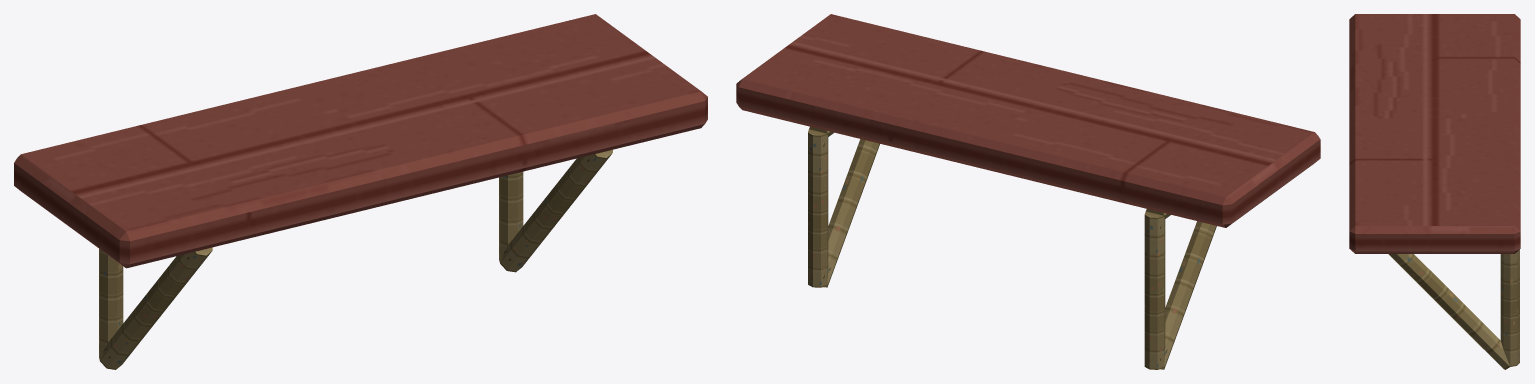
The model's file is MD_83_WallShelf.fbx.
The picture shows the model from 3 angles, left to right: view 1: azimuth 30°, elevation 25°; view 2: azimuth 150°, elevation 25°; view 3: azimuth 270°, elevation 25°; orthographic projection. The views are drawn at different scales.
Parts seen in each view (by area): view 1: MD_83_WallShelf_wooden_shelf, MD_83_WallShelf_shelf_bracket_2, MD_83_WallShelf_shelf_bracket_2.001, MD_83_WallShelf_shelf_bracket_0, MD_83_WallShelf_shelf_bracket_0.001; view 2: MD_83_WallShelf_wooden_shelf, MD_83_WallShelf_shelf_bracket_0, MD_83_WallShelf_shelf_bracket_0.001, MD_83_WallShelf_shelf_bracket_2.001, MD_83_WallShelf_shelf_bracket_2; view 3: MD_83_WallShelf_wooden_shelf, MD_83_WallShelf_shelf_bracket_2.001, MD_83_WallShelf_shelf_bracket_0.001.
Boxes of the visible parts, left/top/right/bottom form: MD_83_WallShelf_wooden_shelf: left=14, top=14, right=707, bottom=268; MD_83_WallShelf_shelf_bracket_2: left=100, top=247, right=212, bottom=369; MD_83_WallShelf_shelf_bracket_2.001: left=500, top=149, right=612, bottom=272; MD_83_WallShelf_shelf_bracket_0: left=99, top=249, right=123, bottom=360; MD_83_WallShelf_shelf_bracket_0.001: left=499, top=171, right=523, bottom=263; MD_83_WallShelf_wooden_shelf: left=736, top=14, right=1320, bottom=227; MD_83_WallShelf_shelf_bracket_0: left=1144, top=211, right=1165, bottom=369; MD_83_WallShelf_shelf_bracket_0.001: left=808, top=129, right=828, bottom=287; MD_83_WallShelf_shelf_bracket_2.001: left=823, top=139, right=879, bottom=287; MD_83_WallShelf_shelf_bracket_2: left=1160, top=221, right=1216, bottom=369; MD_83_WallShelf_wooden_shelf: left=1349, top=14, right=1520, bottom=253; MD_83_WallShelf_shelf_bracket_2.001: left=1388, top=254, right=1509, bottom=369; MD_83_WallShelf_shelf_bracket_0.001: left=1500, top=249, right=1519, bottom=366.
Bounding box in the file's own units: 0.75 × 0.2819 × 0.25.
2 materials, 2 textured.
